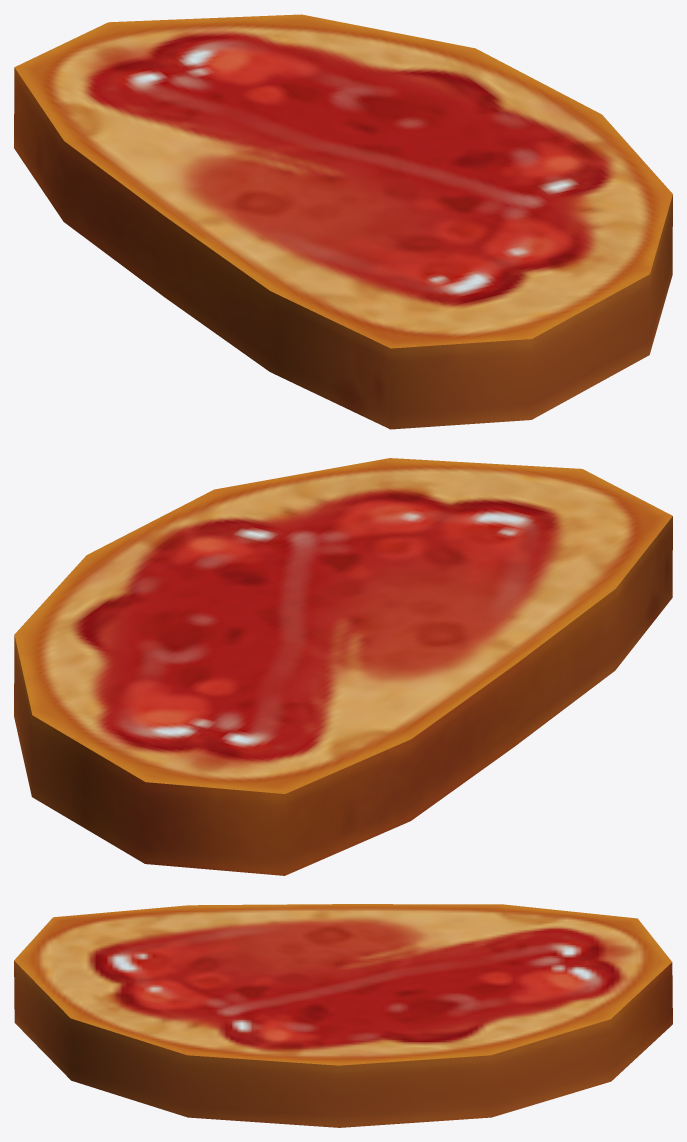
File: SE_Bread_04.fbx
3 views of the same model, one above another, from view 1: azimuth 30°, elevation 25°; view 2: azimuth 150°, elevation 25°; view 3: azimuth 270°, elevation 25° (orthographic). The views are drawn at different scales.
Visible parts, largest first — view 1: SE_Bread_04; view 2: SE_Bread_04; view 3: SE_Bread_04.
Boxes of the visible parts, x1,y1,x2,y2 form: SE_Bread_04: (14, 14, 672, 429); SE_Bread_04: (14, 458, 672, 875); SE_Bread_04: (14, 904, 672, 1127).
Bounding box in the file's own units: 1 × 0.1859 × 1.72.
